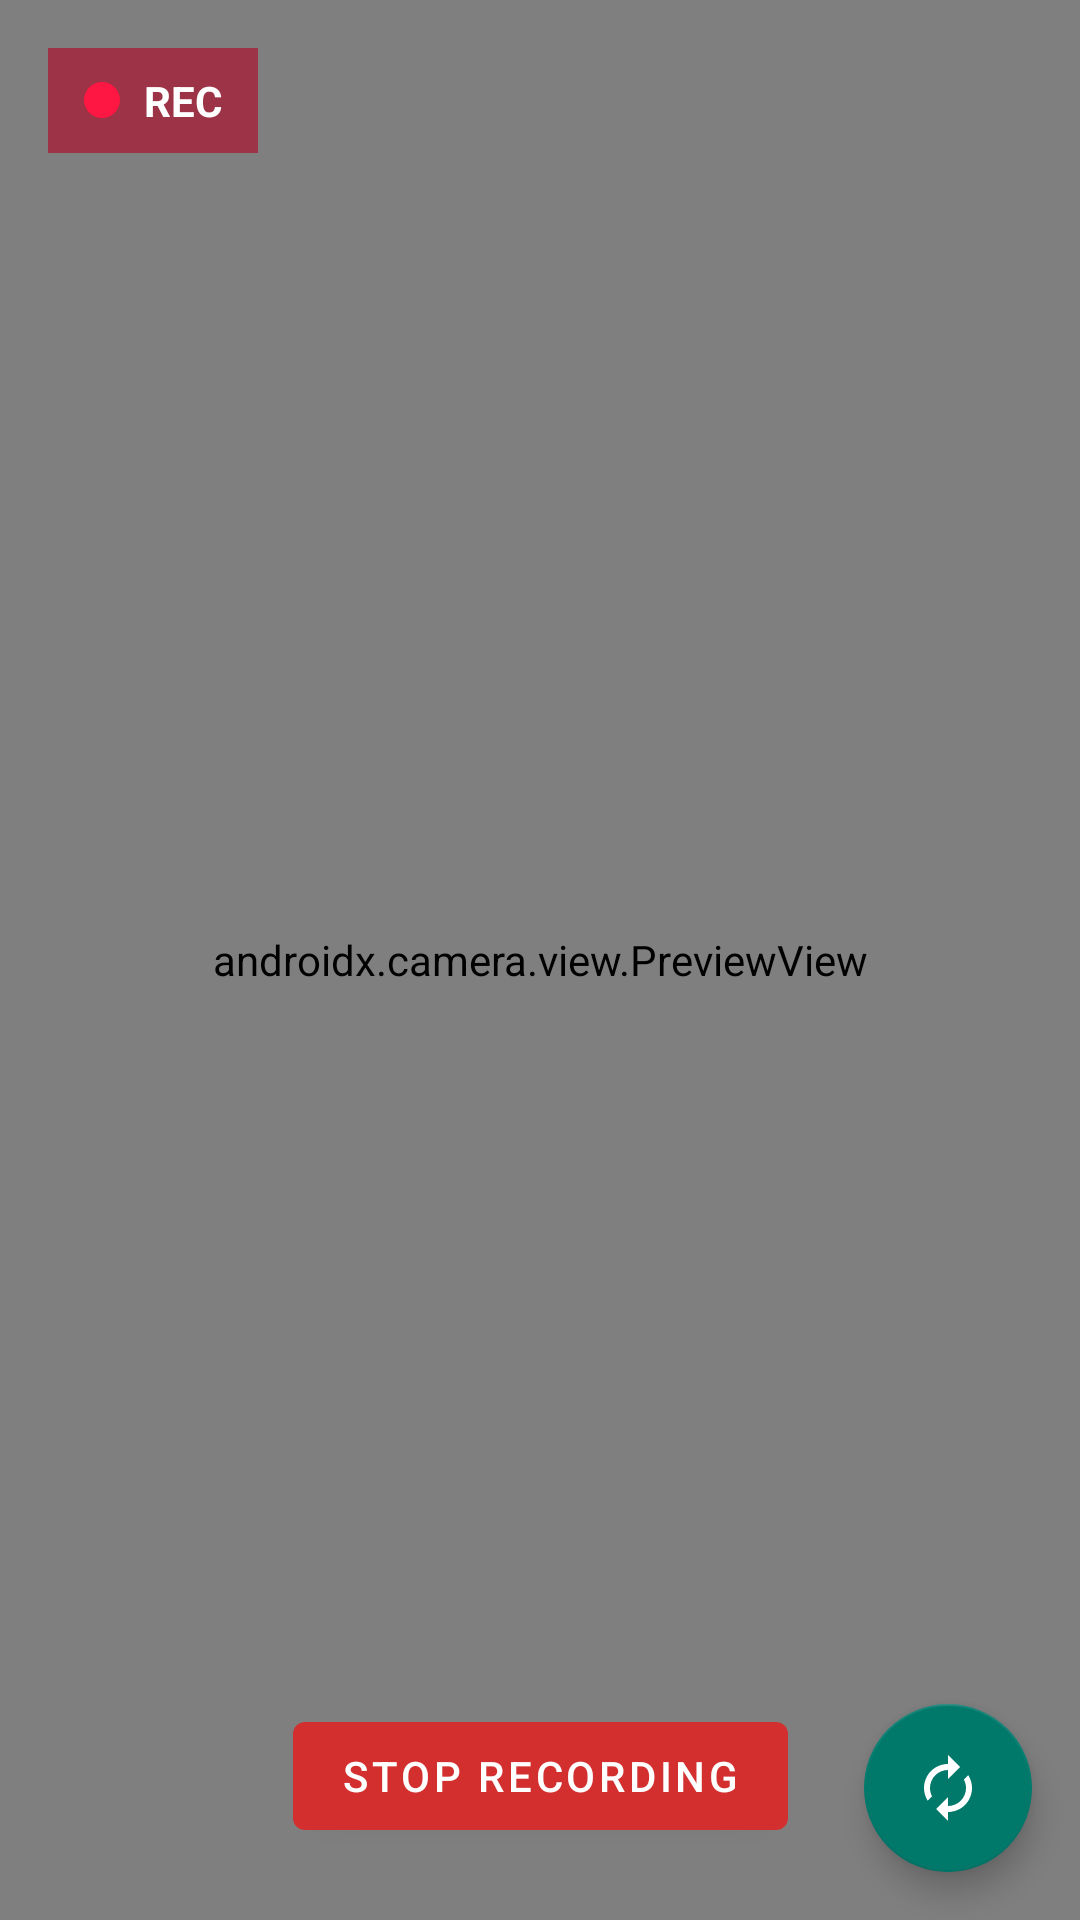

Where icons sit on this 1080w x 1920h app screen, as BBox(x1, y1, x2, y2):
Switch camera: BBox(864, 1704, 1032, 1872)
